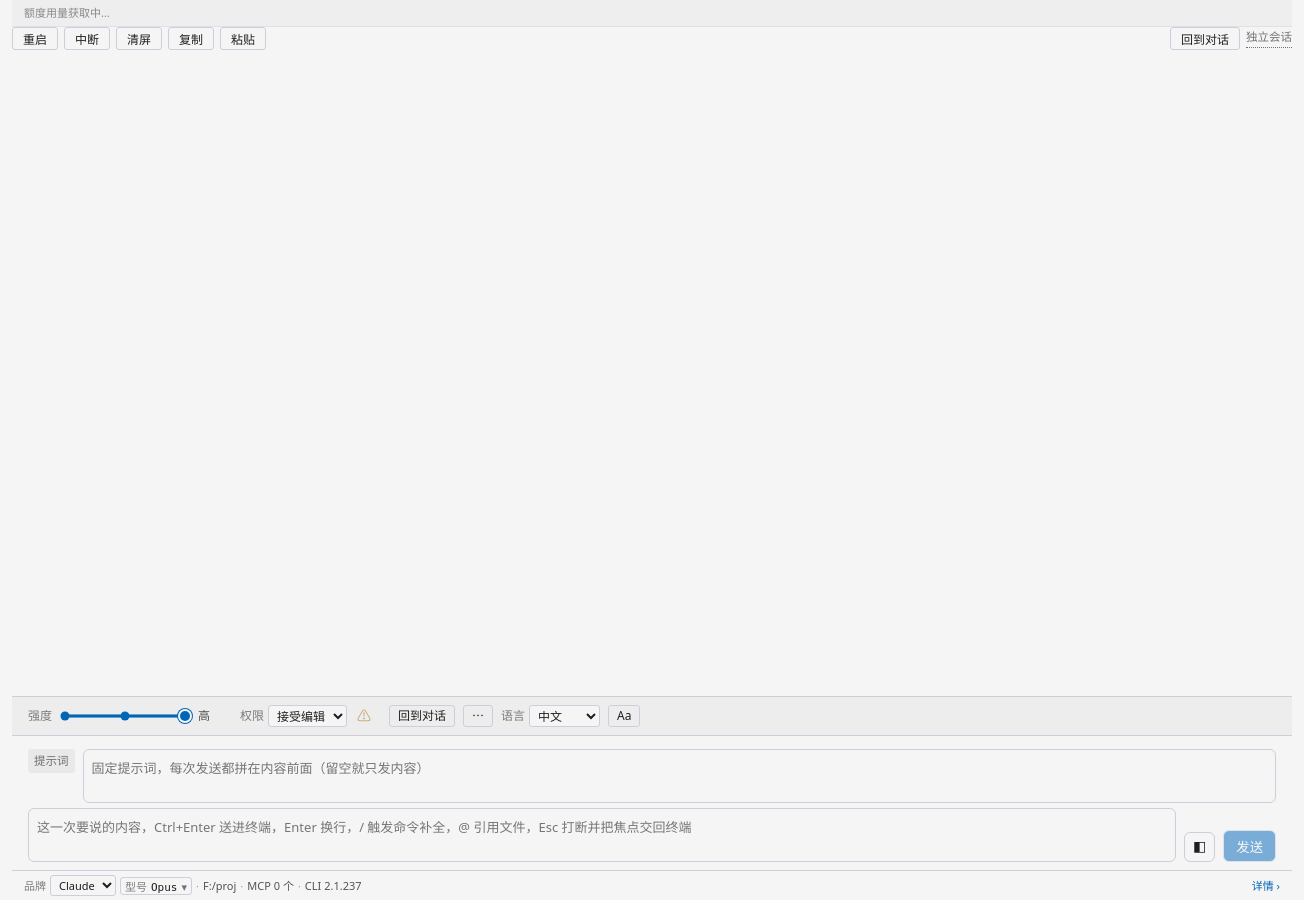
Scenario: App：终端视图 › 终端输入框拿到的是全量命令，包括对话那边被滤掉的
The image size is (1304, 900).
Note: 补全挂在「具体内容」那一格上——提示词那格是长期不变的模板。
Replace the text in the 2nd text box with "/col" at (602, 835), box [28,808,1176,862]
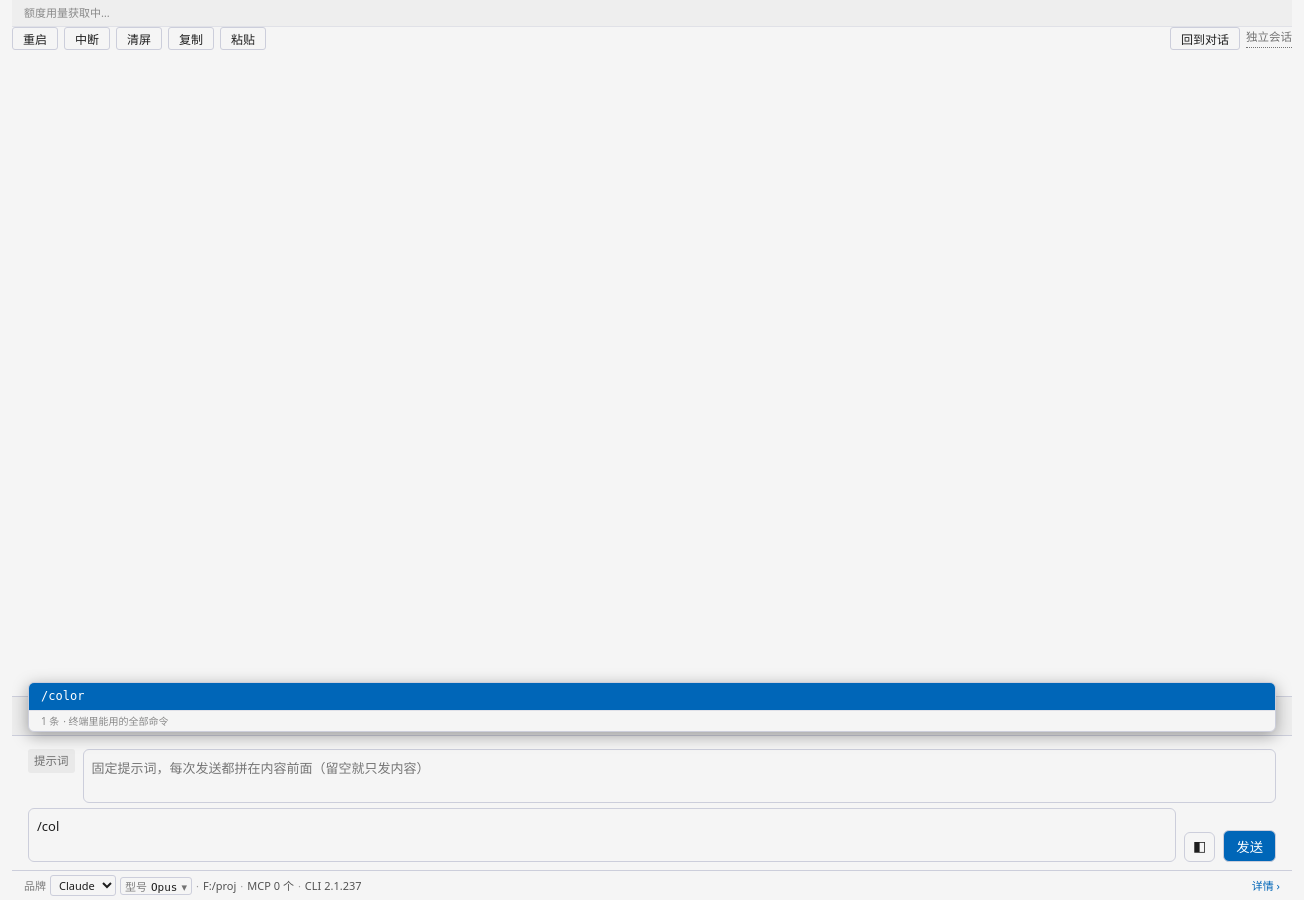
expect the element with class "slash-popup" is shown: met, box [28,682,1276,732]
expect the element with class "slash-popup" shows "color": met, box [48,689,84,703]
